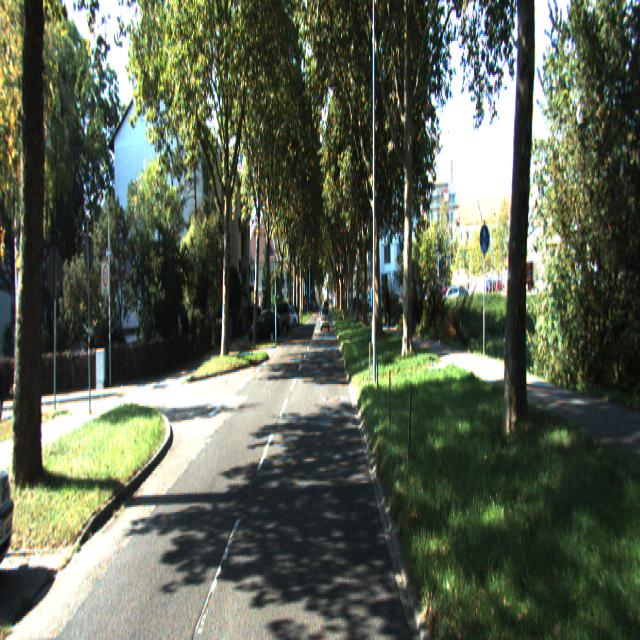Car: (0, 364, 28, 583), (250, 306, 279, 343)
